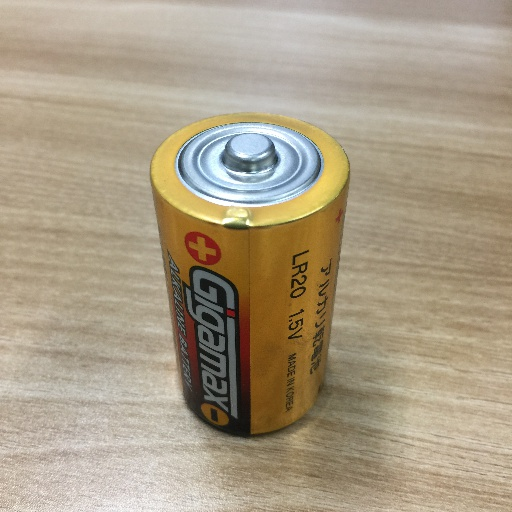Battery_0: (138, 95, 368, 445)
